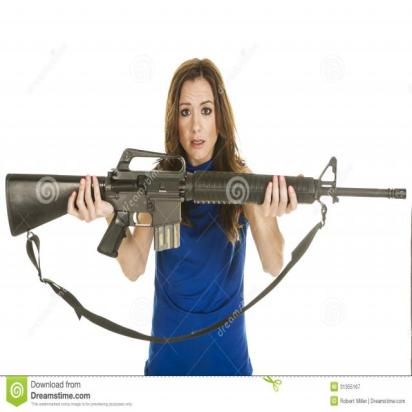Gun: (4, 144, 412, 275)
